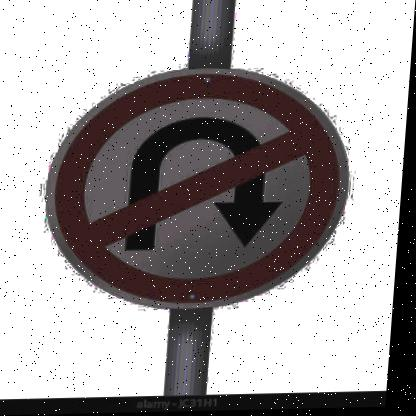No U-turn: (46, 62, 360, 313)
